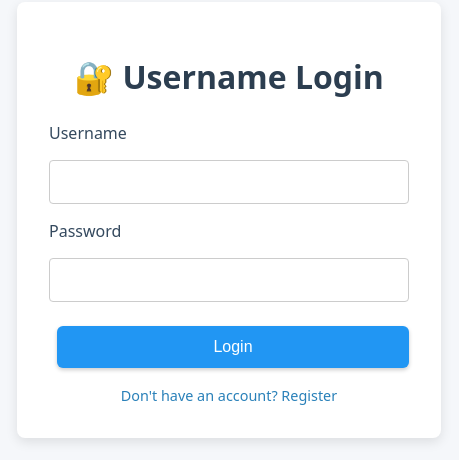
it: LoginPage Component › shows loading state during login
Type "testuser" into the field labelled "Username" at (229, 182), box [49, 160, 409, 204]
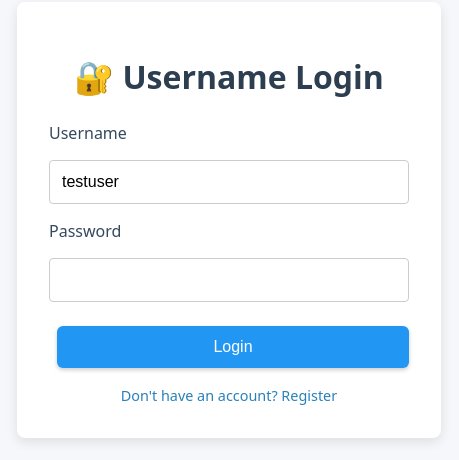
Type "password123" into the password field labelled "Password" at (229, 280), box [49, 258, 409, 302]
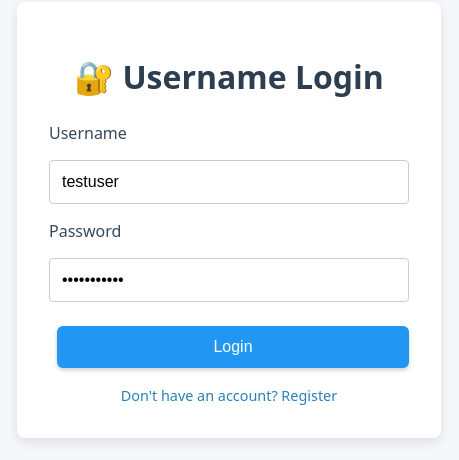
Click the button "Login" at (233, 347), box [57, 326, 409, 368]
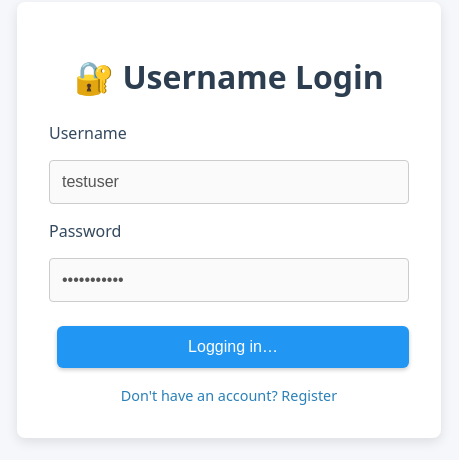
Result: the field labelled "Username" is disabled at [49, 160, 409, 204]
Result: the password field labelled "Password" is disabled at [49, 258, 409, 302]
Result: the button "Logging in…" is disabled at [57, 326, 409, 368]
